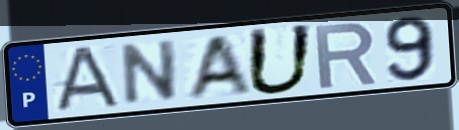9: (383, 14, 438, 85)
A: (49, 44, 124, 114), (182, 31, 254, 103)
N: (120, 37, 180, 108)
R: (312, 20, 380, 91)
U: (244, 22, 317, 98)
